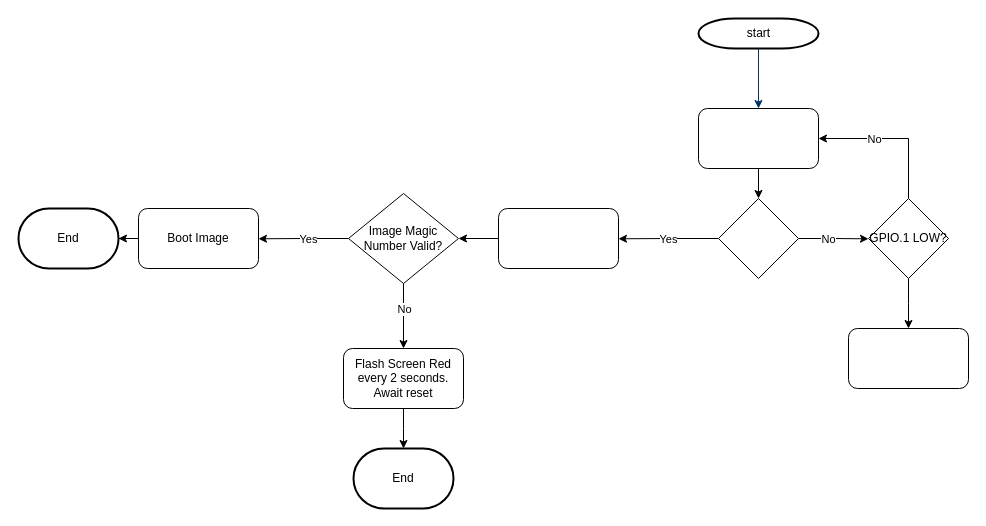
Some shapes in this 986 by 526 pixel diagram are drawn without their labels. The shapes that lost their labels are listed below. From the top down, each one's centre as x and y in pixels, then its label:
At (x=758, y=138): "Decrement Counter".
At (x=558, y=238): "Load FW Image from External Flash".
At (x=758, y=238): "Counter >= 4?".
At (x=908, y=358): "Put Bootloader in `Update Mode`. Await UART connection from PC".
